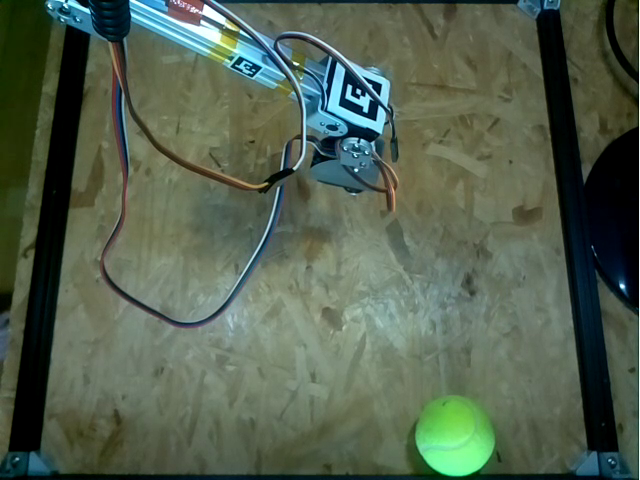tennis_ball: (414, 394, 496, 475)
